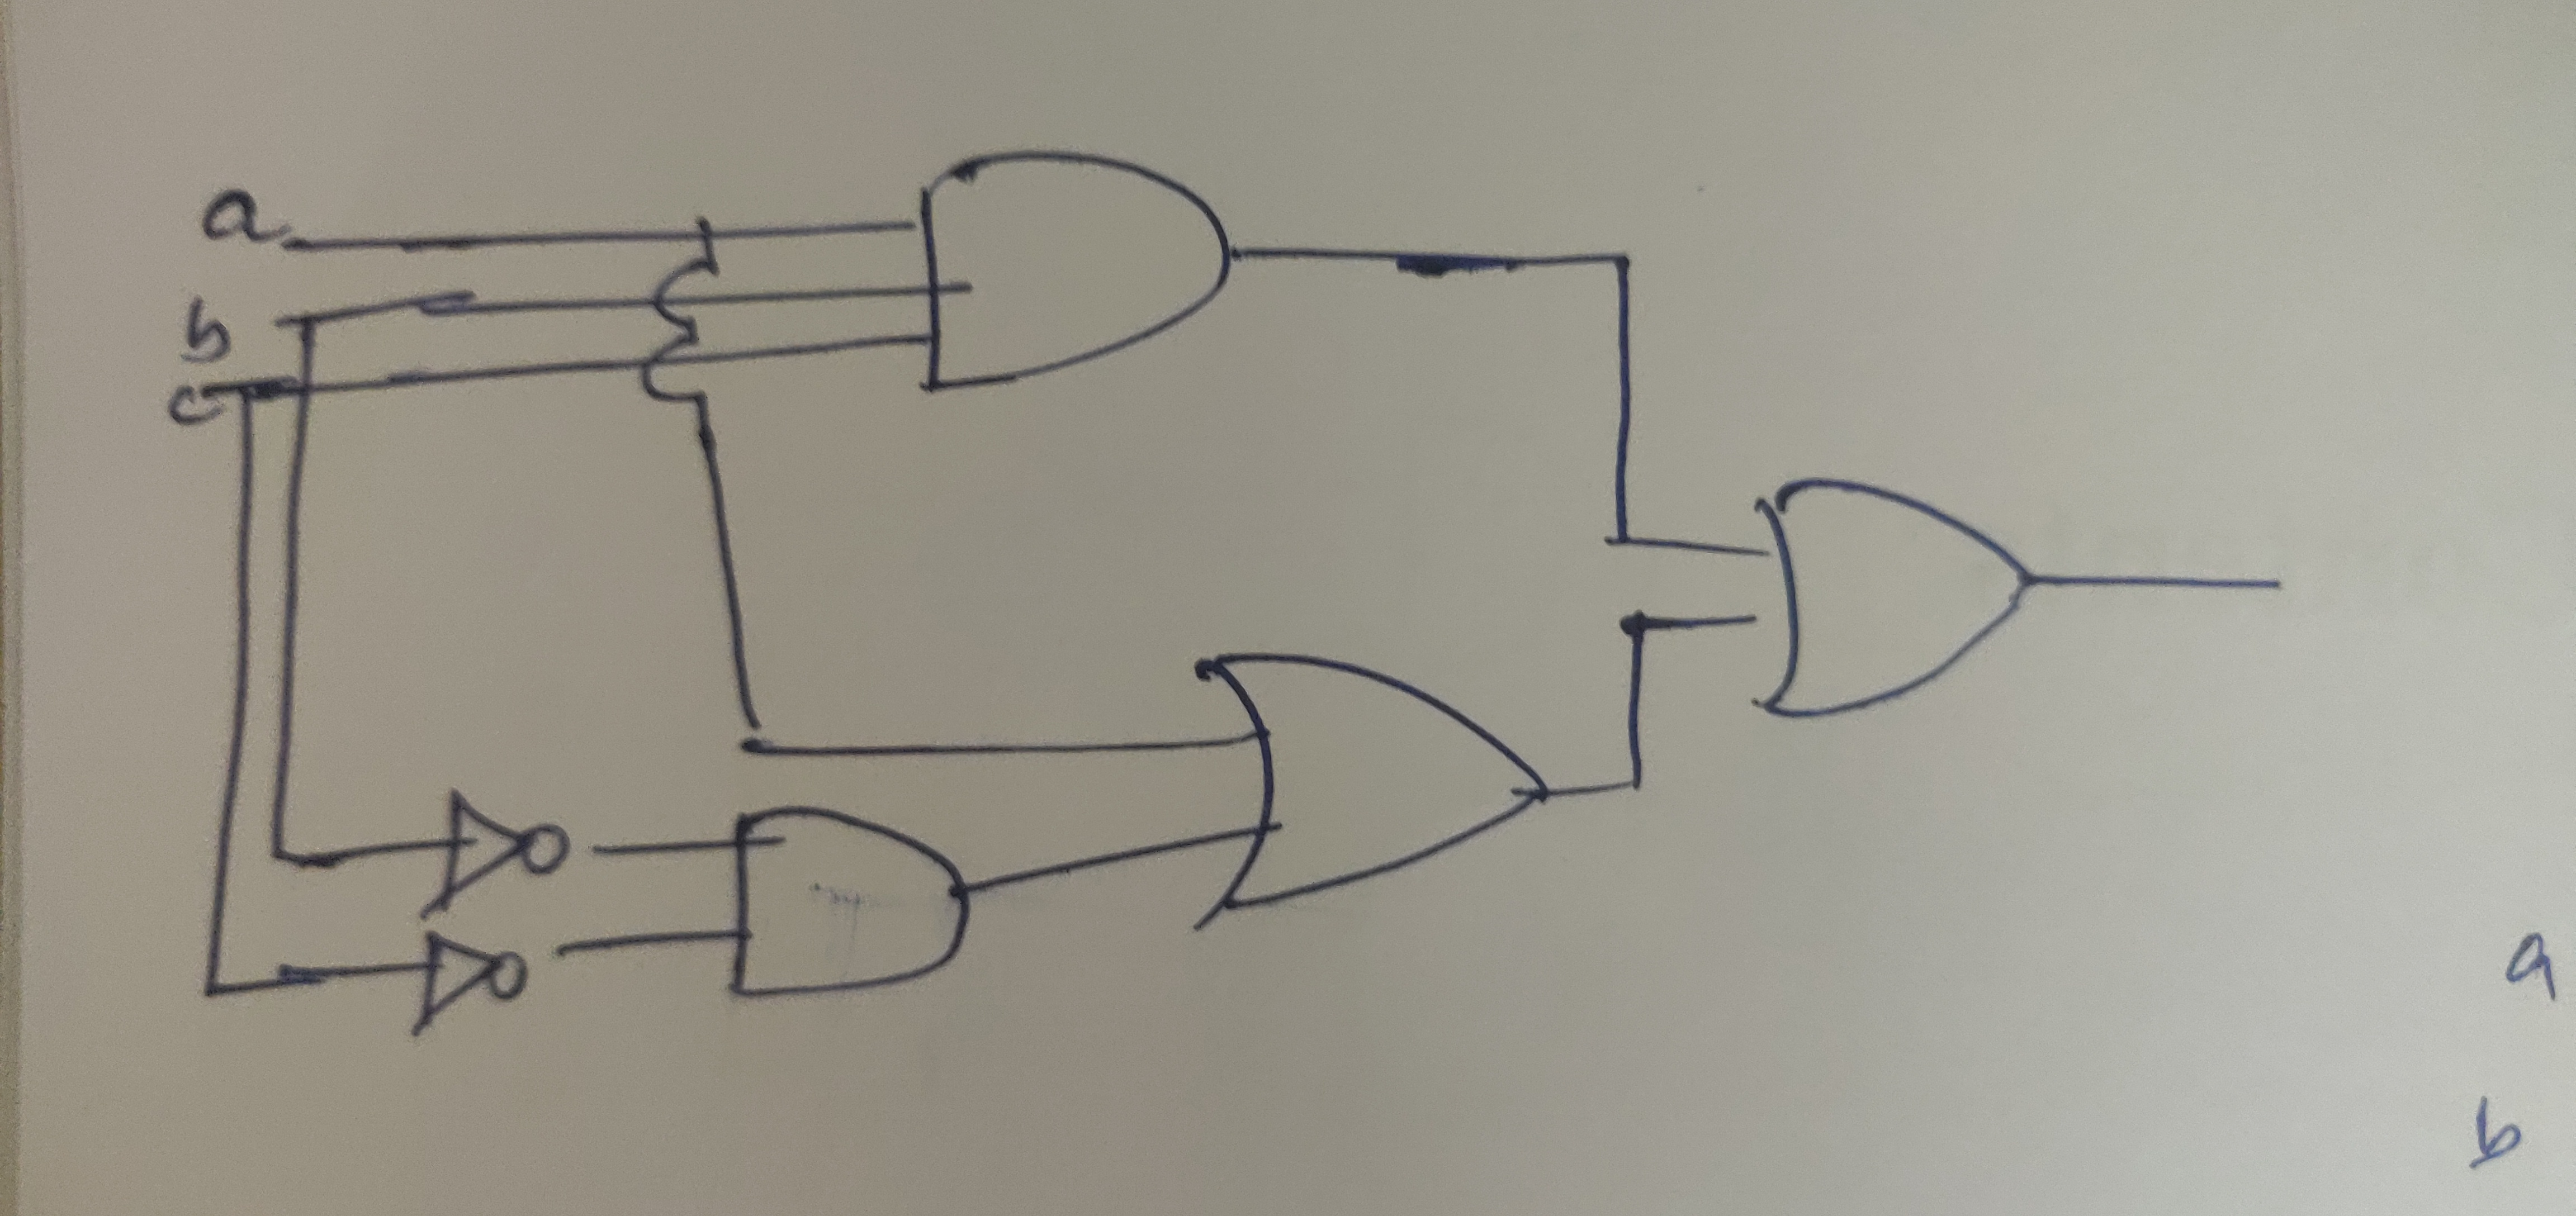and: (869, 125, 1278, 431), (697, 776, 999, 1045)
not: (419, 766, 608, 920), (393, 924, 559, 1055)
or: (1157, 618, 1584, 963), (1722, 447, 2060, 769)
